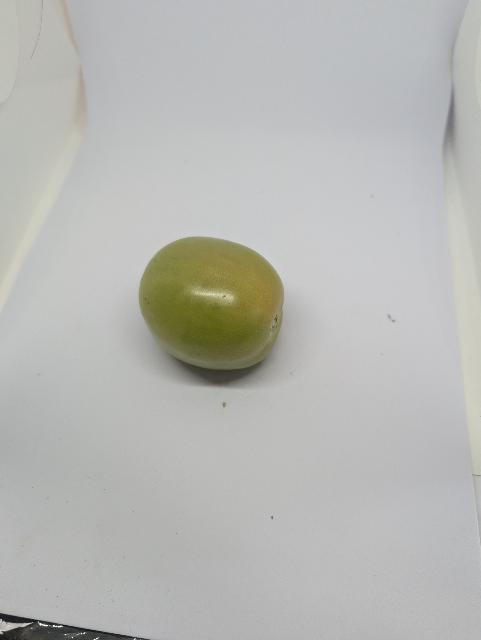green: (116, 228, 301, 374)
